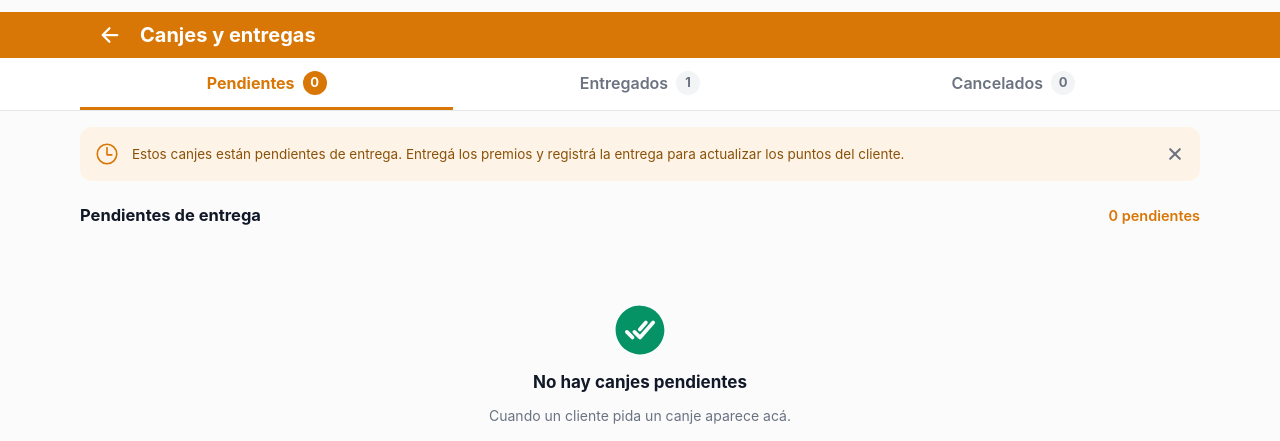
Test: pestanas › se puede cambiar de pestana a mano
Expected: the text "No hay canjes pendientes" is shown, [533,370,747,395]
Click the button "Entregados 1" at (640, 84), box [453,58,827,110]
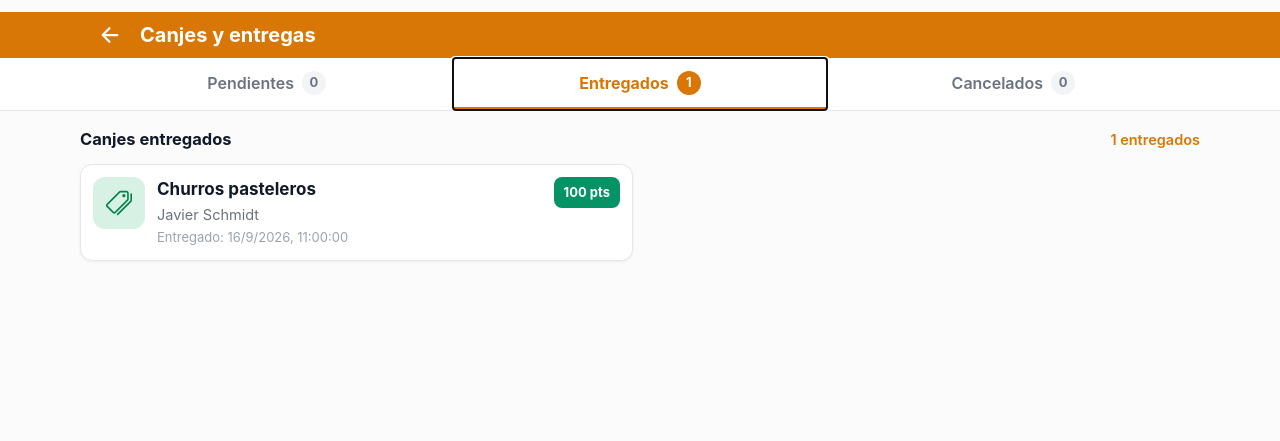
Expected: the heading "Canjes entregados" is shown, [80,127,232,152]
